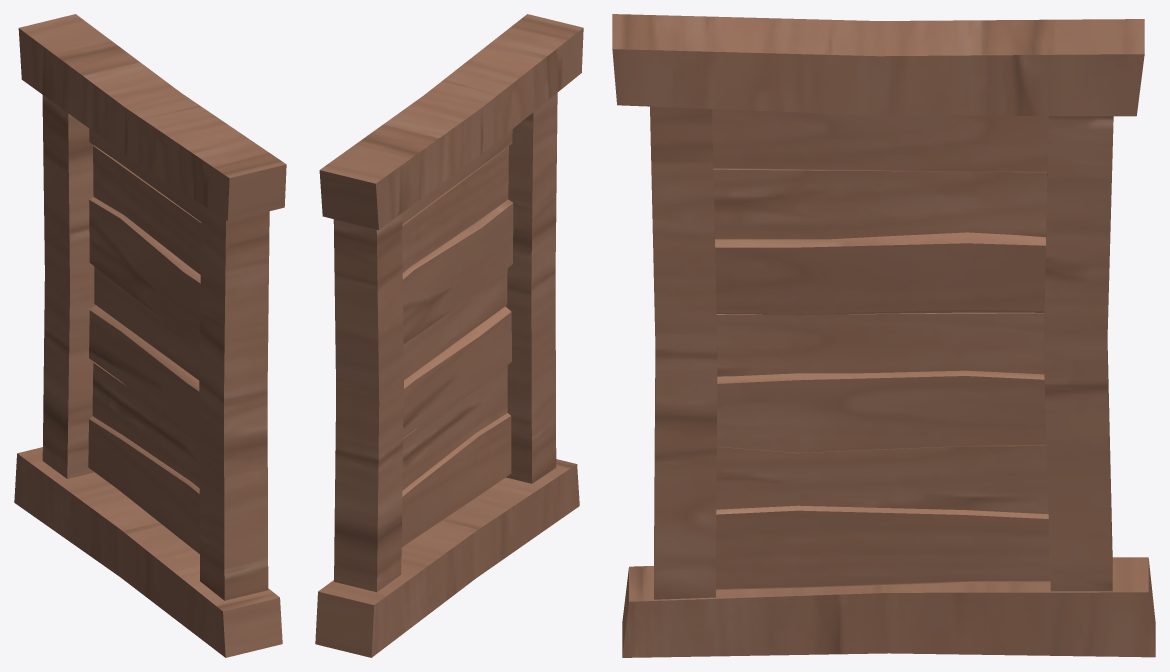
Rendered from SM_wooden_window_01.fbx.
The picture shows the model from 3 angles, left to right: view 1: azimuth 30°, elevation 25°; view 2: azimuth 150°, elevation 25°; view 3: azimuth 270°, elevation 25°; orthographic projection. The views are drawn at different scales.
Parts seen in each view (by area): view 1: SM_wooden_window_01_LOD0; view 2: SM_wooden_window_01_LOD0; view 3: SM_wooden_window_01_LOD0.
Boxes of the visible parts, x1=… form: SM_wooden_window_01_LOD0: x1=14, y1=14, x2=286, y2=657; SM_wooden_window_01_LOD0: x1=315, y1=14, x2=583, y2=657; SM_wooden_window_01_LOD0: x1=612, y1=14, x2=1155, y2=657.
Size of the model in its own units: 26.02 by 170 by 210.
